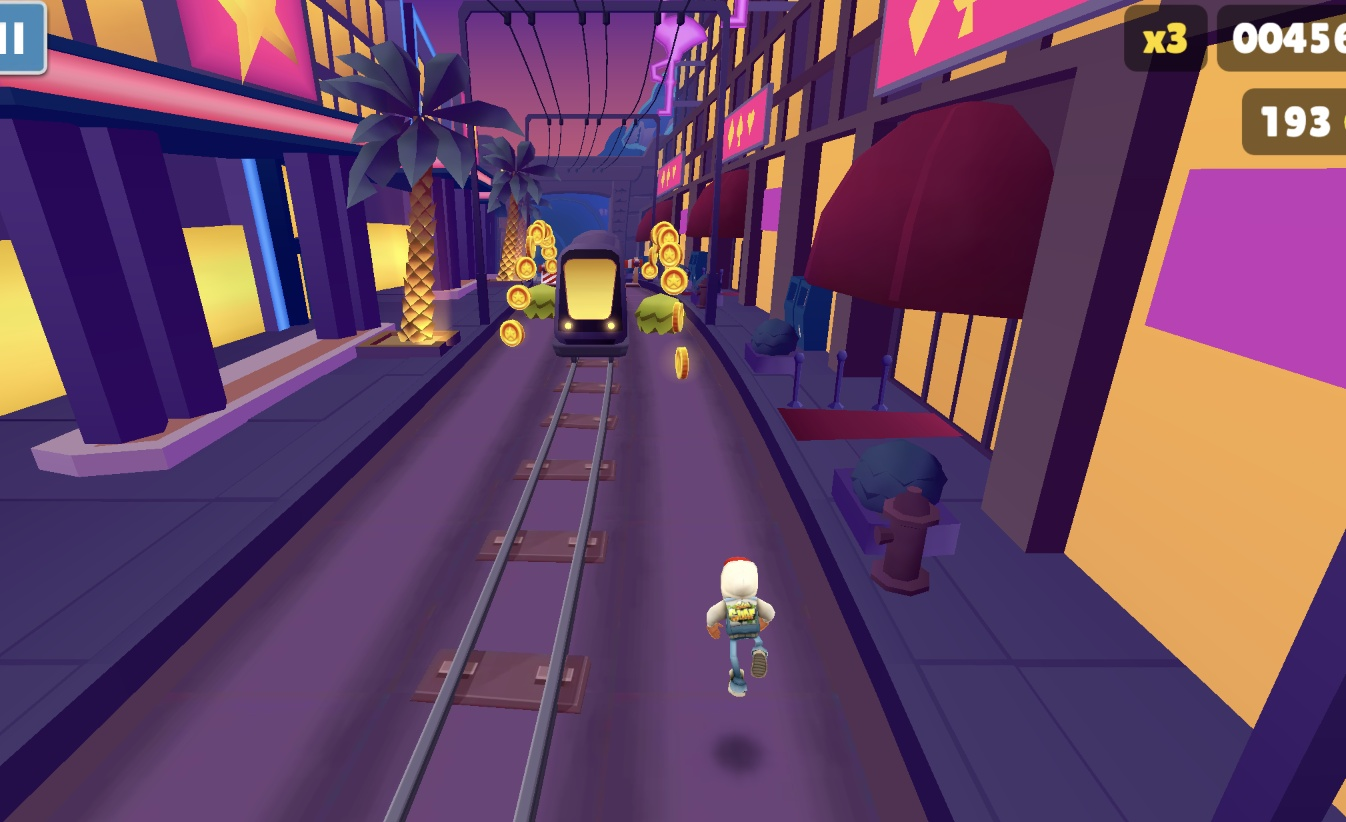bush: (633, 294, 681, 335), (518, 281, 557, 319)
ground_barrier: (626, 260, 643, 286), (538, 266, 558, 285)
train: (552, 231, 629, 359)
